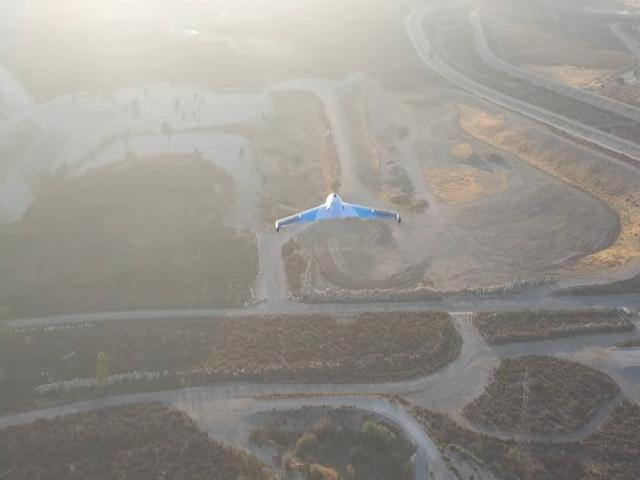iha: (278, 188, 401, 232)
